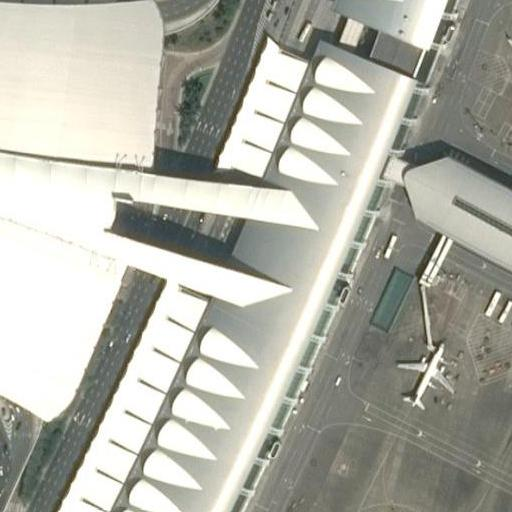Aircraft: (396, 338, 455, 409), (504, 16, 512, 94)
